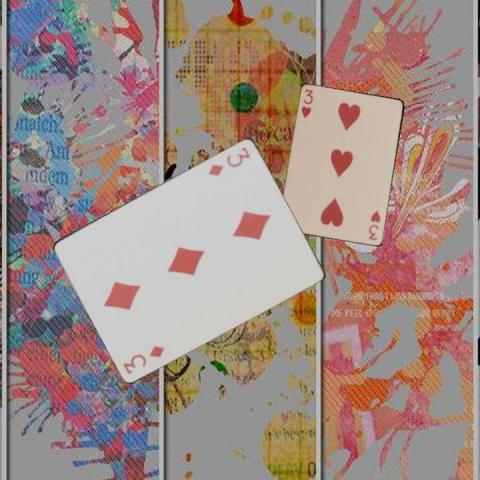3d: (205, 143, 252, 177), (120, 342, 166, 375)
3h: (366, 208, 382, 242), (298, 87, 314, 119)
